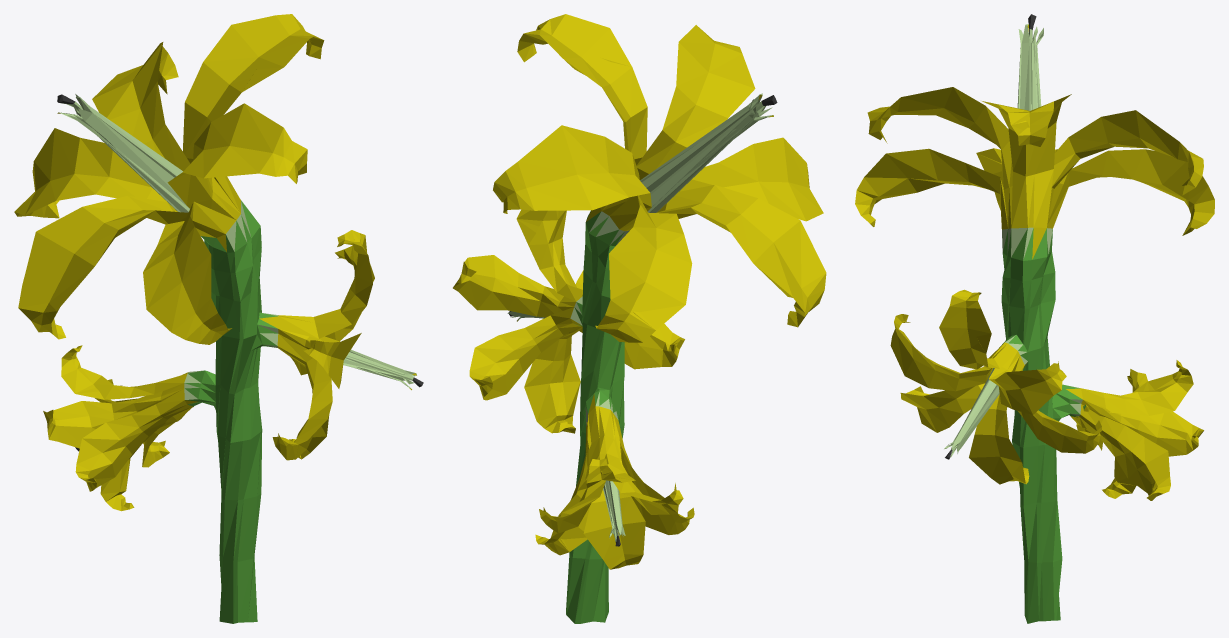
The model's file is stm_env_Lily-003.fbx.
3 renders of one model, left to right at view 1: azimuth 30°, elevation 25°; view 2: azimuth 150°, elevation 25°; view 3: azimuth 270°, elevation 25°, orthographic. The views are drawn at different scales.
Parts seen in each view (by area): view 1: Lily_003; view 2: Lily_003; view 3: Lily_003.
Part boxes in pixels (left/top/right/bottom): Lily_003: left=14, top=14, right=423, bottom=623; Lily_003: left=453, top=14, right=826, bottom=623; Lily_003: left=855, top=14, right=1214, bottom=623.
Bounding box in the file's own units: 324 × 515 × 313.
